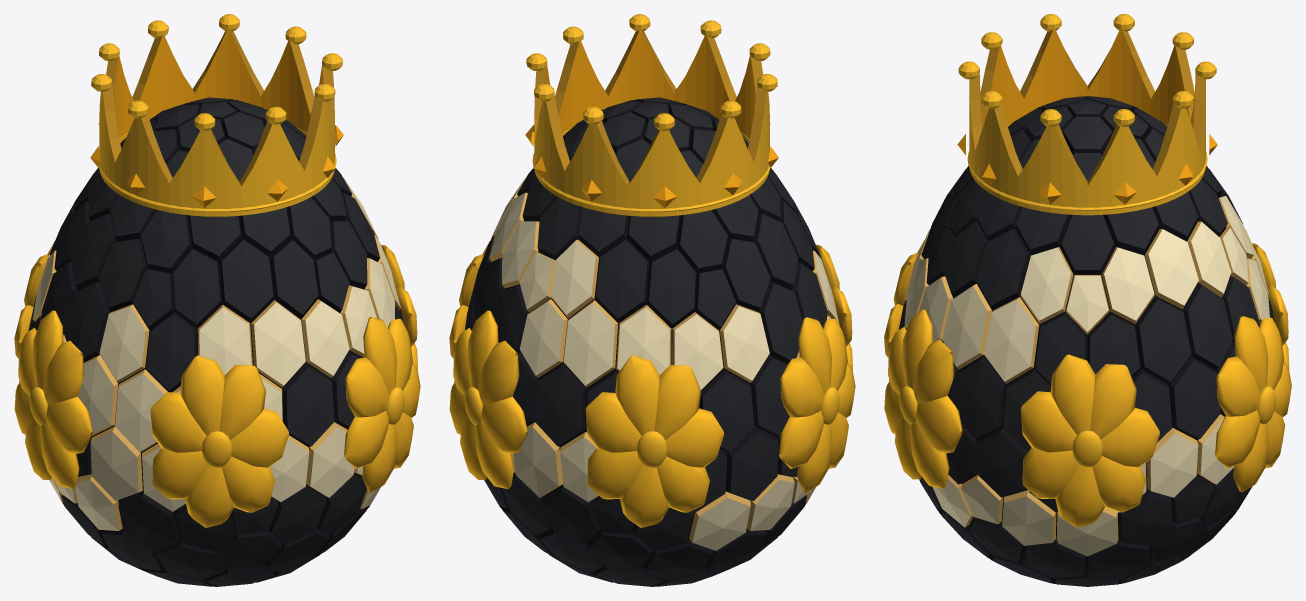
Rendered from royal_egg_exact_style.glb.
3 renders of one model, left to right at view 1: azimuth 30°, elevation 25°; view 2: azimuth 150°, elevation 25°; view 3: azimuth 270°, elevation 25°, orthographic.
Parts seen in each view (by area): view 1: Egg | raised black and ivory plates, Gold flower | seven rounded petals, Crown | full circular royal band, Crown | round golden finial, Egg | black shell and grout, Gold flower | oval center, Crown | faceted diamond ornament, Crown | circular polished lower rim; view 2: Egg | raised black and ivory plates, Gold flower | seven rounded petals, Crown | full circular royal band, Crown | round golden finial, Egg | black shell and grout, Gold flower | oval center, Crown | faceted diamond ornament, Crown | circular polished lower rim; view 3: Egg | raised black and ivory plates, Gold flower | seven rounded petals, Crown | full circular royal band, Crown | round golden finial, Egg | black shell and grout, Gold flower | oval center, Crown | faceted diamond ornament, Crown | circular polished lower rim.
Part boxes in pixels (x1,y1,x2,y2): Egg | raised black and ivory plates: [28, 97, 403, 586]; Gold flower | seven rounded petals: [14, 241, 420, 527]; Crown | full circular royal band: [99, 29, 334, 216]; Crown | round golden finial: [91, 14, 342, 130]; Egg | black shell and grout: [63, 124, 364, 551]; Gold flower | oval center: [29, 387, 404, 467]; Crown | faceted diamond ornament: [90, 123, 343, 207]; Crown | circular polished lower rim: [99, 127, 336, 212]; Egg | raised black and ivory plates: [465, 97, 839, 586]; Gold flower | seven rounded petals: [449, 241, 855, 527]; Crown | full circular royal band: [534, 29, 769, 216]; Crown | round golden finial: [526, 14, 777, 130]; Egg | black shell and grout: [504, 124, 792, 551]; Gold flower | oval center: [464, 387, 839, 467]; Crown | faceted diamond ornament: [525, 123, 778, 207]; Crown | circular polished lower rim: [532, 127, 770, 212]; Egg | raised black and ivory plates: [899, 96, 1274, 586]; Gold flower | seven rounded petals: [884, 240, 1291, 527]; Crown | full circular royal band: [969, 28, 1205, 215]; Crown | round golden finial: [958, 14, 1216, 126]; Egg | black shell and grout: [942, 132, 1259, 570]; Gold flower | oval center: [899, 386, 1275, 467]; Crown | faceted diamond ornament: [957, 134, 1217, 204]; Crown | circular polished lower rim: [967, 124, 1207, 210].
Bounding box in the file's own units: 1.84 × 2.42 × 1.76.
